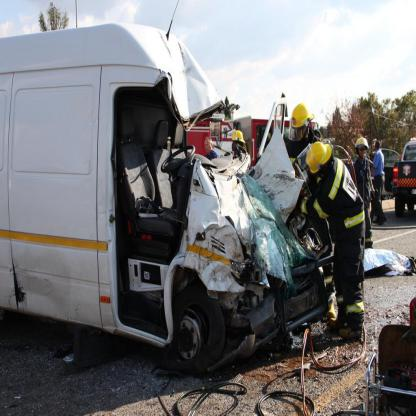face: (295, 126, 305, 142), (360, 145, 367, 159), (205, 140, 212, 153), (233, 138, 239, 152)
